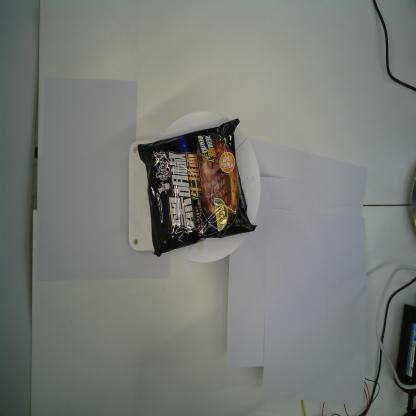Instant Noodles: (137, 117, 258, 259)
